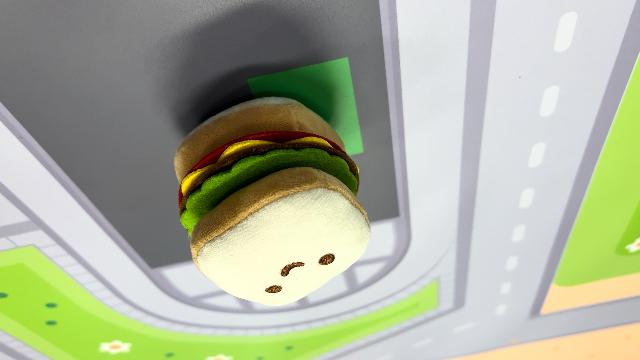sandwich: (170, 93, 374, 307)
